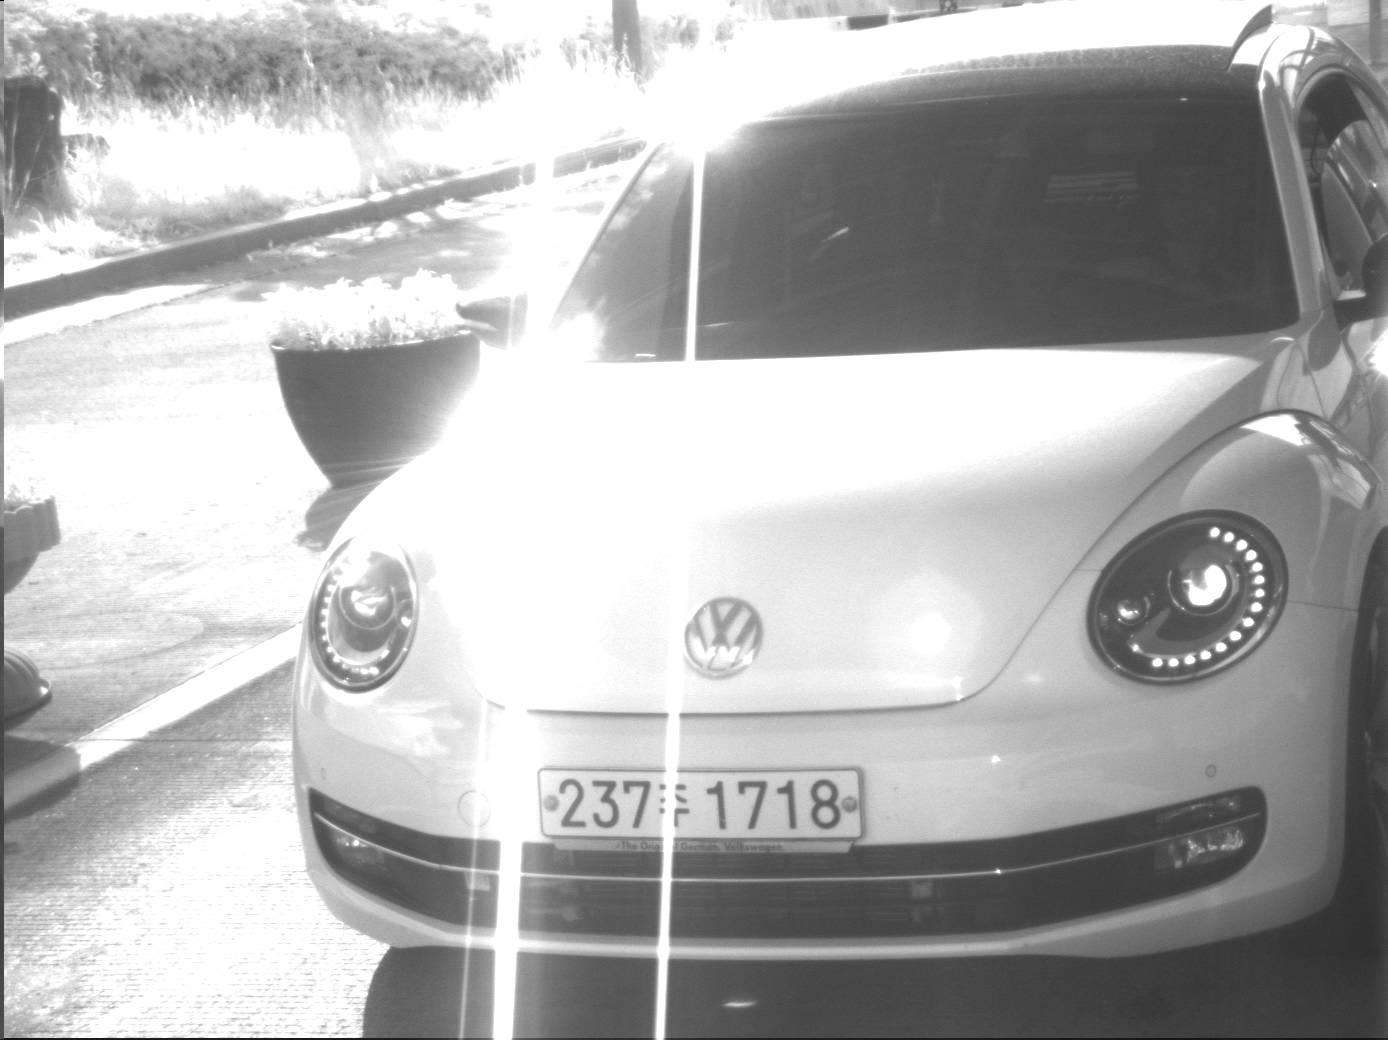car: (292, 2, 1388, 964)
plate: (536, 767, 867, 841)
